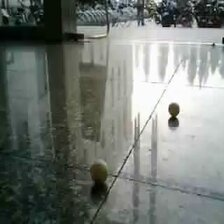w: (89, 159, 110, 184), (167, 102, 180, 117)
